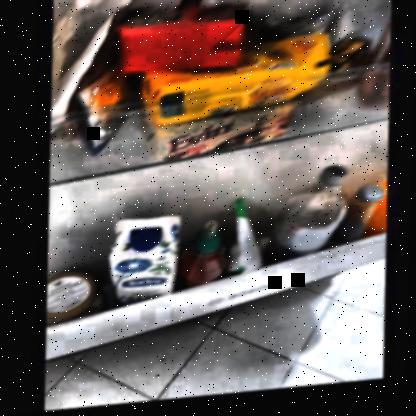butter: (150, 58, 321, 125)
heavy_cream: (120, 7, 248, 80)
milk: (104, 220, 180, 298)
